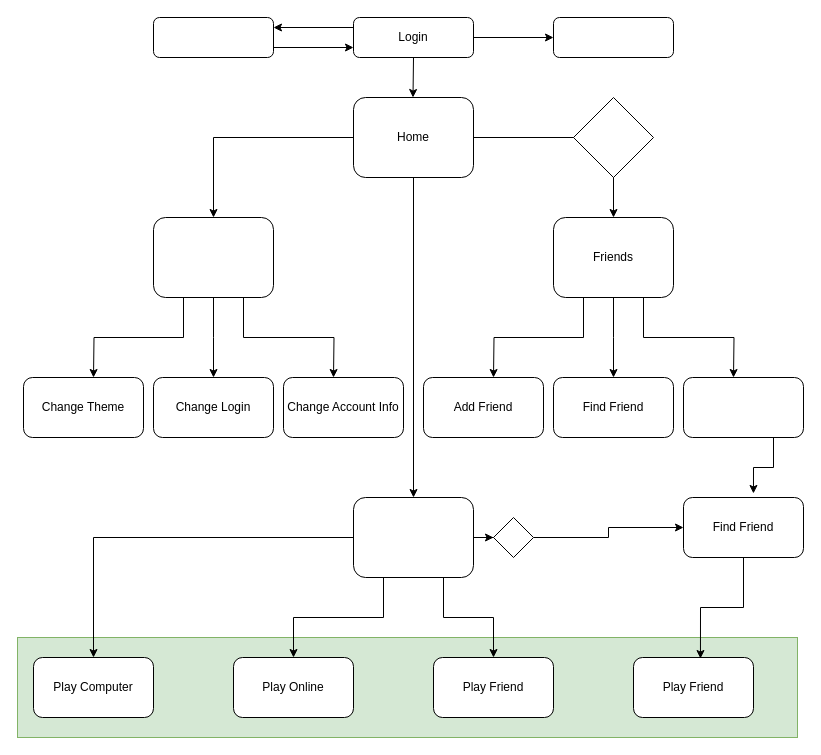
Some shapes in this 821 by 755 pixel diagram are drawn without their labels. The centre of each missing label's shape, as x and y in pixels:
Ac: the point at 513,537
Accounts Only: the point at 613,137
Create Account: the point at 613,37
Forgot Login: the point at 213,37
Play Chess: the point at 413,537
Select Friend: the point at 743,407
Settings: the point at 213,257
